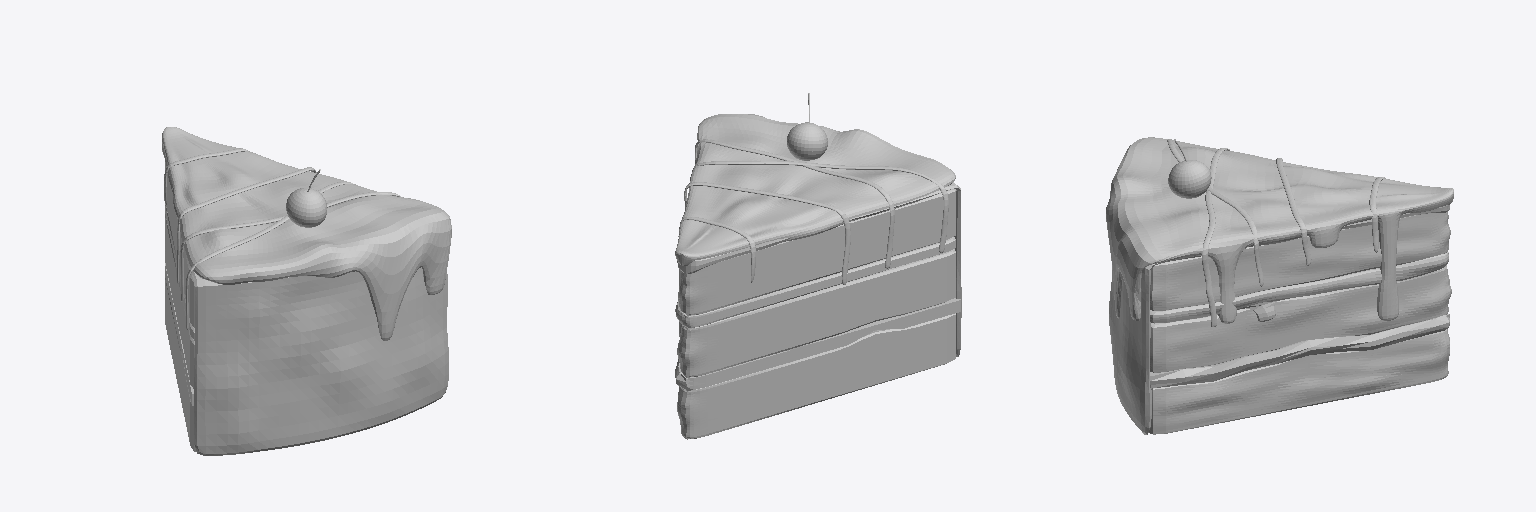
Rendered from chocolateCakePink.obj.
3 views of the same model, side by side, from view 1: azimuth 30°, elevation 25°; view 2: azimuth 150°, elevation 25°; view 3: azimuth 270°, elevation 25° (orthographic).
Visible parts, largest first — view 1: Object001; view 2: Object001; view 3: Object001.
Boxes of the visible parts, x1=… form: Object001: x1=162, y1=127, x2=451, y2=455; Object001: x1=675, y1=93, x2=961, y2=439; Object001: x1=1106, y1=137, x2=1453, y2=434.
Bounding box in the file's own units: 0.4924 × 0.4471 × 0.5786.